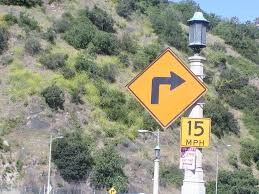right: (124, 46, 209, 132)
